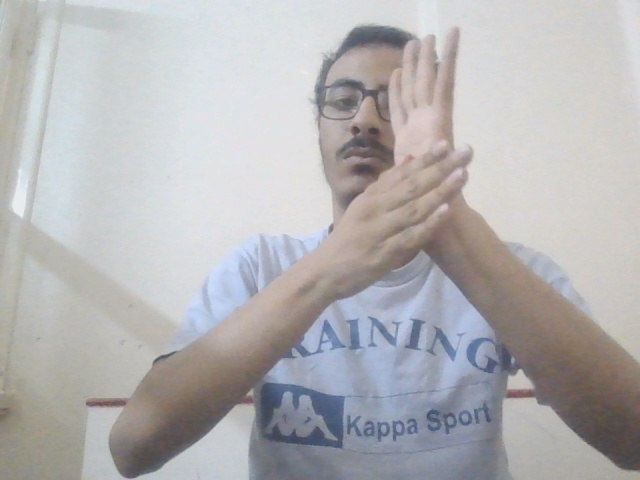Movie: (321, 24, 489, 303)
